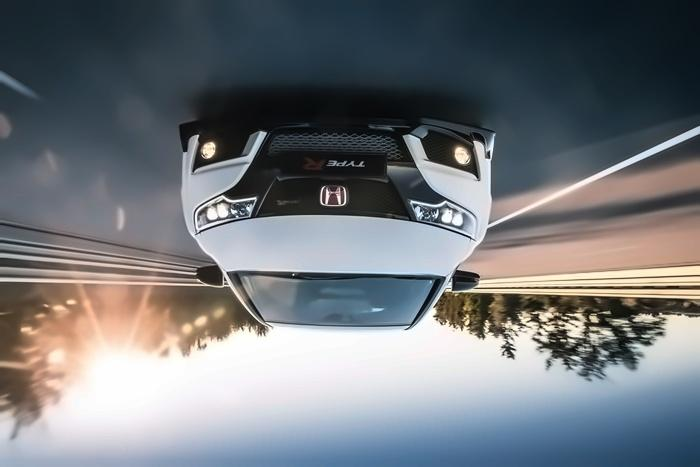Car hood: (192, 209, 481, 276)
Front bumper: (174, 115, 496, 213)
Headlight - -L-: (189, 190, 262, 238)
Headlight - -R-: (403, 193, 481, 243)
Side mirror - -L-: (189, 261, 228, 289)
Side mirror - -R-: (448, 264, 482, 298)
